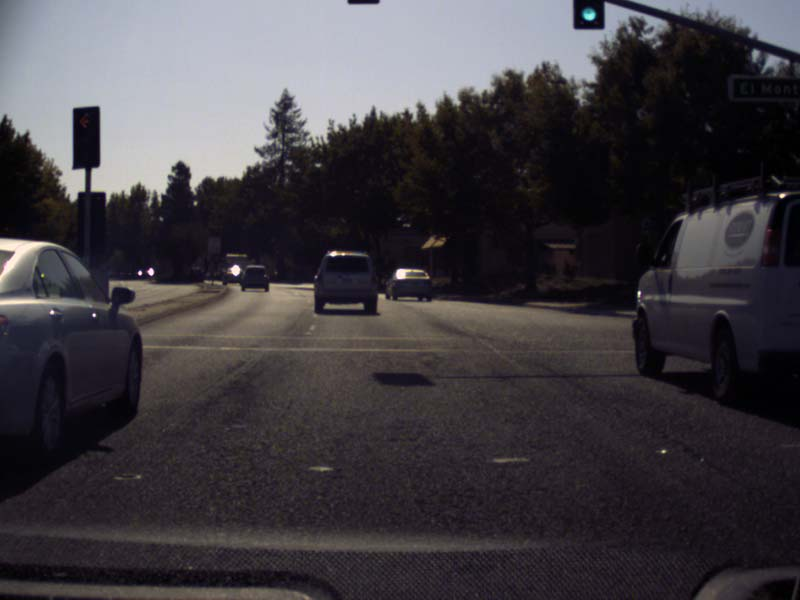Red: (71, 107, 99, 168)
